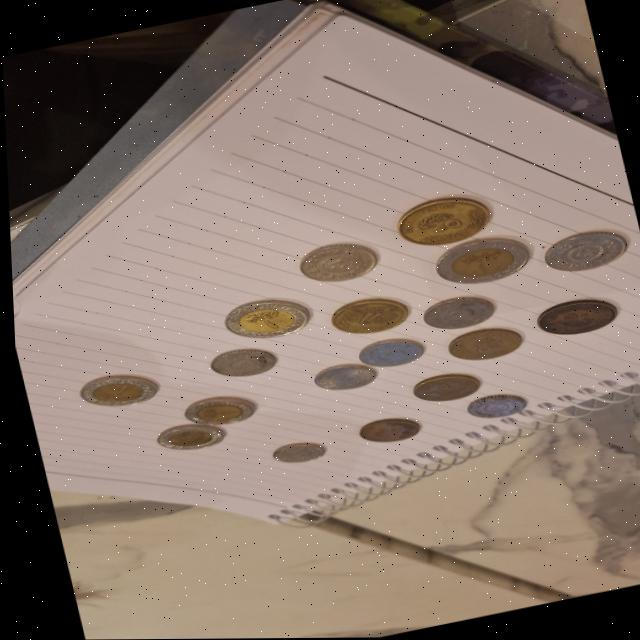Half Pound: (383, 188, 497, 256), (319, 290, 411, 344), (526, 291, 615, 345), (435, 323, 522, 371), (401, 369, 476, 410), (348, 411, 417, 452)
One Pound: (422, 234, 530, 295), (213, 293, 309, 347), (69, 371, 150, 415), (176, 394, 251, 432), (145, 421, 218, 459)
quarter pound: (532, 223, 632, 280), (289, 236, 379, 290), (413, 290, 497, 337), (350, 332, 425, 377), (204, 340, 275, 385), (454, 388, 527, 426), (304, 361, 374, 397), (261, 435, 327, 470)
